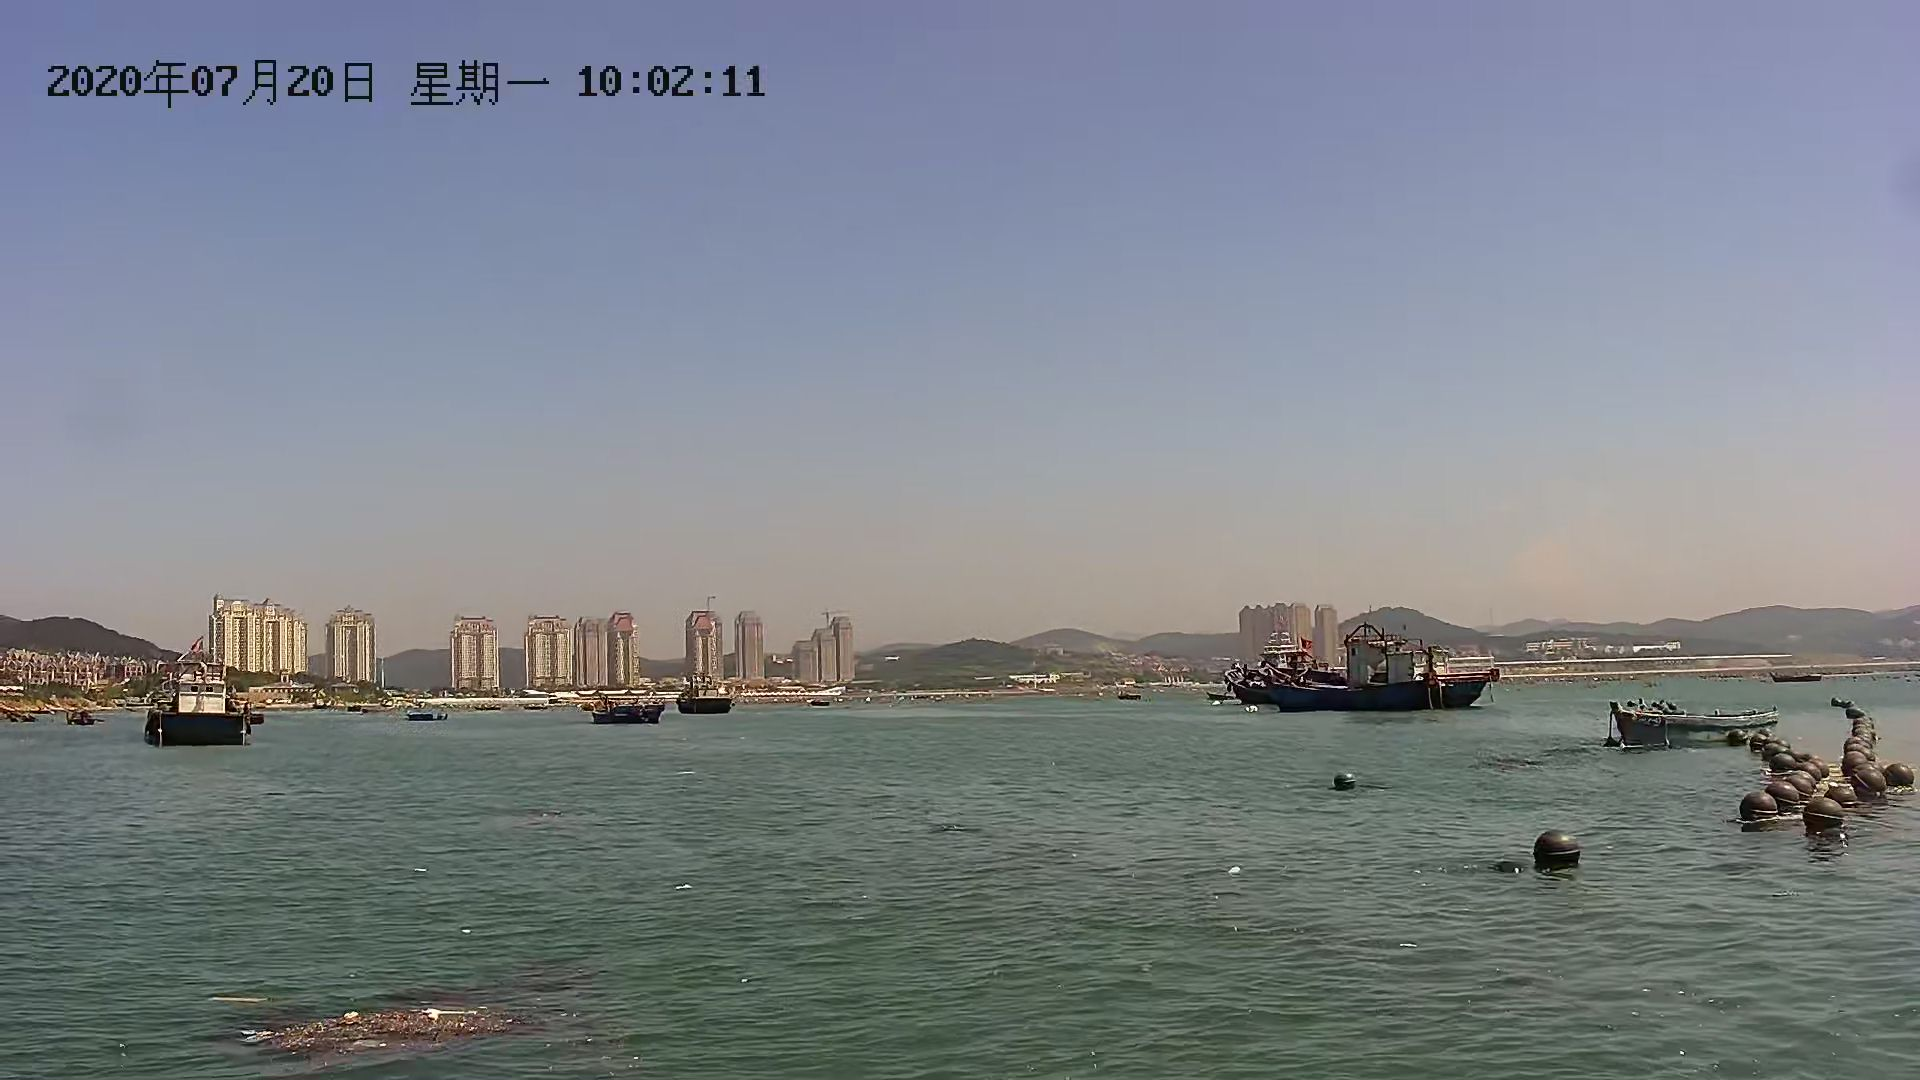ball: (1532, 822, 1586, 885), (1801, 793, 1859, 837), (1734, 782, 1782, 827), (1327, 767, 1362, 796), (1851, 767, 1884, 796)
boat: (1601, 694, 1780, 753), (593, 690, 666, 735), (674, 682, 742, 721)
ship: (1273, 632, 1495, 720), (145, 659, 251, 754)
